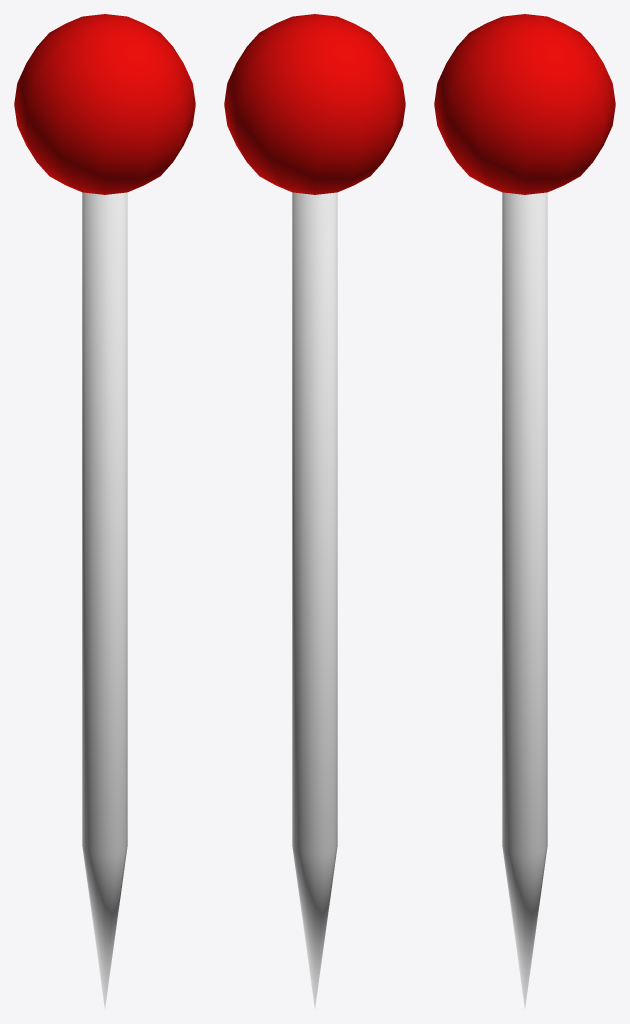
Rendered from needle.fbx.
The picture shows the model from 3 angles, left to right: view 1: azimuth 30°, elevation 25°; view 2: azimuth 150°, elevation 25°; view 3: azimuth 270°, elevation 25°; orthographic projection.
Parts seen in each view (by area): view 1: needle; view 2: needle; view 3: needle.
Boxes of the visible parts, x1=… form: needle: x1=14, y1=14, x2=195, y2=1008; needle: x1=224, y1=14, x2=405, y2=1008; needle: x1=434, y1=14, x2=615, y2=1008.
Size of the model in its own units: 2 by 12 by 2.
